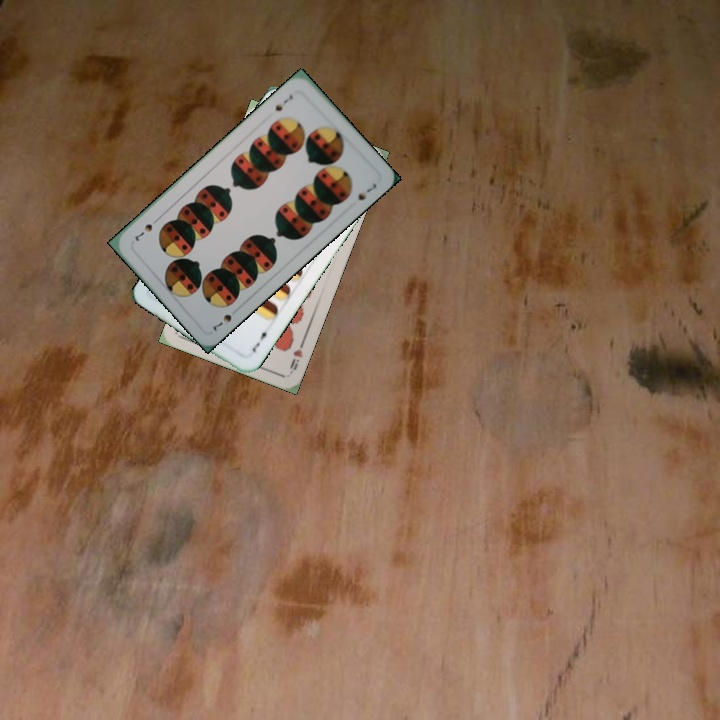E7: (248, 325, 272, 355)
H9: (286, 336, 307, 376)
S7: (209, 310, 234, 334), (271, 90, 295, 114)
